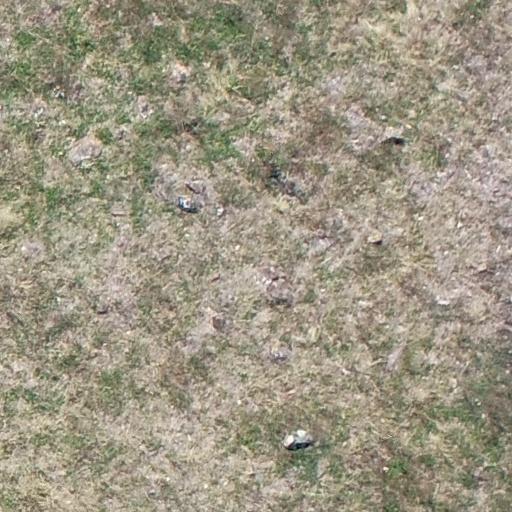stone: (66, 134, 105, 168), (278, 427, 317, 453), (172, 193, 203, 213), (366, 226, 382, 246), (210, 314, 228, 328), (476, 267, 492, 277), (138, 102, 150, 114), (476, 473, 488, 484), (210, 272, 221, 283), (436, 298, 450, 306), (116, 240, 126, 250), (341, 367, 351, 376), (456, 220, 464, 230), (234, 244, 241, 252), (382, 466, 389, 472), (237, 398, 242, 406)
